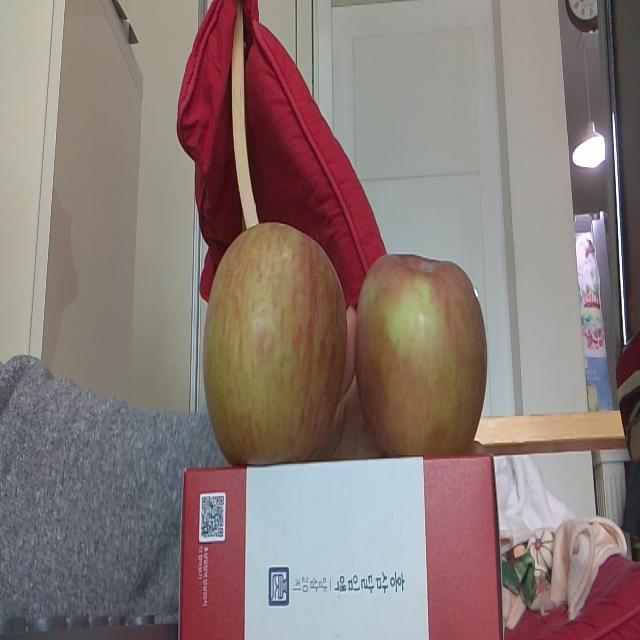apple: (203, 220, 349, 470), (355, 252, 486, 458)
